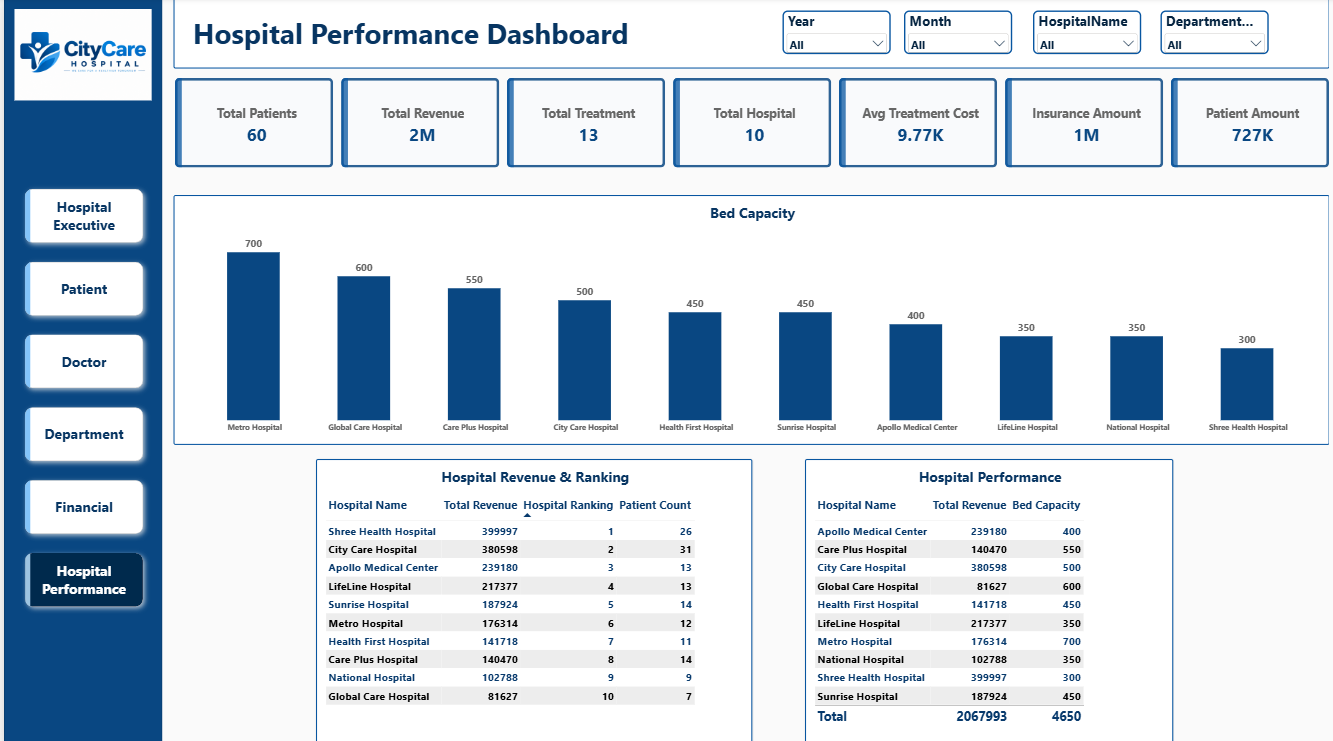

This screenshot's page, from the dashboard's own definition file:
{"tool":"powerbi","page":{"name":"Hospital Performance","canvas":[2560,1440],"ordinal":5},"visuals":[{"type":"shape","box":[324.5,0,2207.8,136.8],"z":0},{"type":"cardVisual","fields":{"Data":["Patients.Total Patients","Medical Transactions.Total Revenue","Count(Medical Transactions.TreatmentID)","Hospitals.Total Hospital","Treatments.Average Treatment Cost","Sum(Medical Transactions.InsuranceAmount)","Sum(Medical Transactions.PatientAmount)"]},"box":[327.1,155.4,2205.4,171.6],"z":1000},{"type":"textbox","box":[360.4,30.3,875.2,81.8],"z":2000},{"type":"slicer","fields":{"Values":["Medical Transactions.AdmissionDate.Variation.Date Hierarchy.Year"]},"box":[1486.7,26.7,206.7,83.3],"z":3000},{"type":"clusteredColumnChart","title":"Bed Capacity","fields":{"Y":["Sum(Hospitals.BedCapacity)"],"Category":["Hospitals.HospitalName"]},"box":[324.5,378.6,2207.8,477.2],"z":4000},{"type":"tableEx","title":"Hospital Revenue & Ranking","fields":{"Values":["Hospitals.HospitalName","Medical Transactions.Total Revenue","Hospitals.Hospital Ranking","Medical Transactions.PatientID"]},"box":[594.9,881.2,833.5,559.9],"z":5000},{"type":"slicer","fields":{"Values":["Hospitals.HospitalName"]},"box":[1966.7,26.7,206.7,83.3],"z":6000},{"type":"slicer","fields":{"Values":["Medical Transactions.AdmissionDate.Variation.Date Hierarchy.Month"]},"box":[1720,26.7,206.7,83.3],"z":7000},{"type":"slicer","fields":{"Values":["Departments.DepartmentName"]},"box":[2210,26.7,206.7,83.3],"z":8000},{"type":"tableEx","title":"Hospital Performance","fields":{"Values":["Hospitals.HospitalName","Medical Transactions.Total Revenue","Hospitals.BedCapacity"]},"box":[1530.2,881.2,703.1,559.9],"z":9000},{"type":"shape","box":[0,0,302.2,1441.1],"z":10000},{"type":"pageNavigator","box":[25.4,353.1,254.5,830.3],"z":11000},{"type":"image","box":[0,22.3,302.2,175],"z":12000}]}

Visuals, with their boxes on the page's 2560x1440 design canvas (x1, y1, x2, y2). These are canvas units, not pixel positions in the 1333x741 screenshot, which may show the page scaled, cropped or inside an application window:
shape: <box>324,0,2532,137</box>
cardVisual - Patients.Total Patients x Medical Transactions.Total Revenue: <box>327,155,2532,327</box>
textbox: <box>360,30,1236,112</box>
slicer - Medical Transactions.AdmissionDate.Variation.Date Hierarchy.Year: <box>1487,27,1693,110</box>
"Bed Capacity" clusteredColumnChart: <box>324,379,2532,856</box>
"Hospital Revenue & Ranking" tableEx: <box>595,881,1428,1441</box>
slicer - Hospitals.HospitalName: <box>1967,27,2173,110</box>
slicer - Medical Transactions.AdmissionDate.Variation.Date Hierarchy.Month: <box>1720,27,1927,110</box>
slicer - Departments.DepartmentName: <box>2210,27,2417,110</box>
"Hospital Performance" tableEx: <box>1530,881,2233,1441</box>
shape: <box>0,0,302,1441</box>
pageNavigator: <box>25,353,280,1183</box>
image: <box>0,22,302,197</box>
